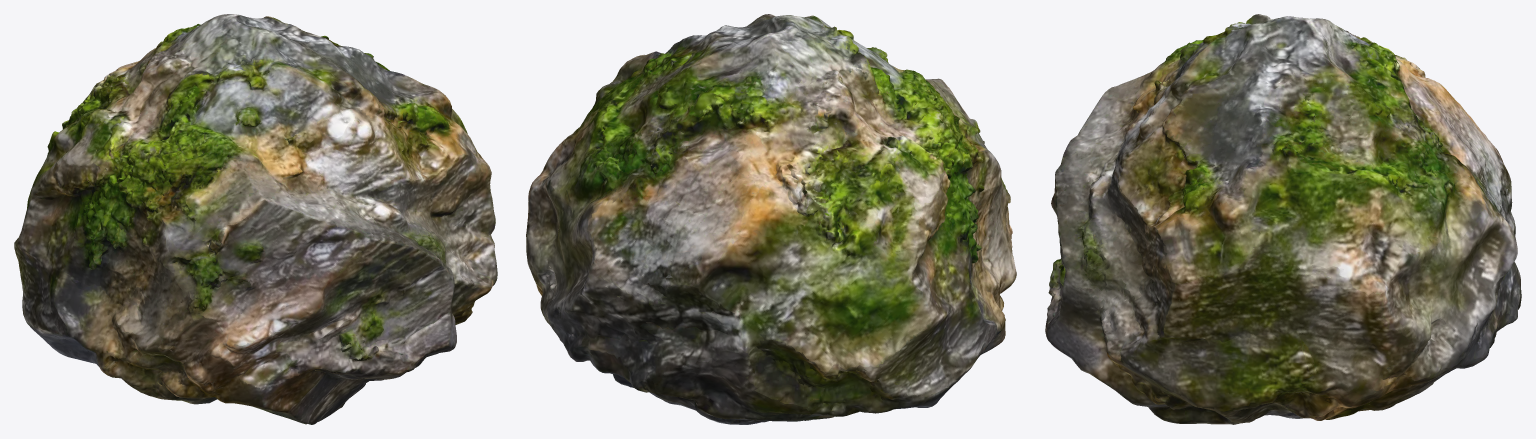
The model's file is wet-rock.glb.
3 views of the same model, side by side, from view 1: azimuth 30°, elevation 25°; view 2: azimuth 150°, elevation 25°; view 3: azimuth 270°, elevation 25° (orthographic). The views are drawn at different scales.
Visible parts, largest first — view 1: geometry_0; view 2: geometry_0; view 3: geometry_0.
Part boxes in pixels (x1,y1,x2,y2): geometry_0: (14,14,497,424); geometry_0: (526,14,1016,424); geometry_0: (1045,14,1521,424).
Bounding box in the file's own units: 0.1798 × 0.1526 × 0.1799.
1 material, 1 textured.
